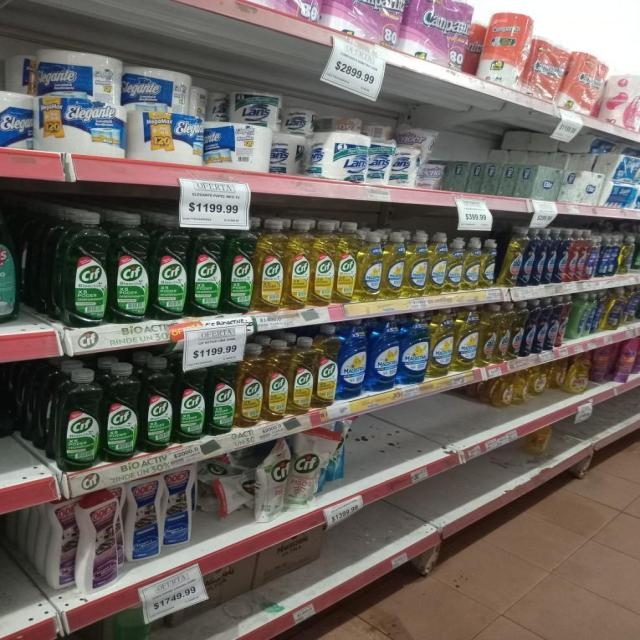ala_conc_amarillo: (503, 225, 522, 288), (479, 304, 496, 366), (496, 303, 510, 362), (510, 301, 523, 360)
ala_conc_azul: (522, 228, 535, 286), (523, 300, 535, 357), (546, 228, 557, 285), (557, 228, 568, 284), (536, 299, 547, 354), (536, 228, 546, 286), (548, 297, 558, 352)
ala_conc_rojo: (578, 230, 588, 281)
cif_conc_bot_amarilla: (256, 218, 284, 312), (285, 219, 311, 310), (237, 343, 263, 428), (265, 338, 289, 421), (312, 220, 335, 306), (290, 336, 315, 414), (316, 324, 338, 406), (336, 221, 357, 304)
cif_conc_botella_verde: (56, 209, 108, 327), (53, 366, 100, 469), (110, 212, 149, 323), (152, 214, 188, 320), (102, 361, 138, 461), (141, 356, 173, 452), (190, 220, 222, 316), (224, 220, 254, 314), (0, 192, 20, 326), (175, 357, 206, 441), (207, 356, 236, 435)
magistral_con_amarillo: (358, 229, 382, 301), (430, 308, 453, 377), (455, 305, 478, 371), (406, 230, 428, 297), (384, 230, 404, 299), (428, 232, 447, 296), (464, 236, 481, 292), (448, 236, 463, 293), (482, 238, 498, 289)
magistral_con_azul: (368, 316, 398, 392), (339, 319, 367, 399), (401, 312, 428, 384)
